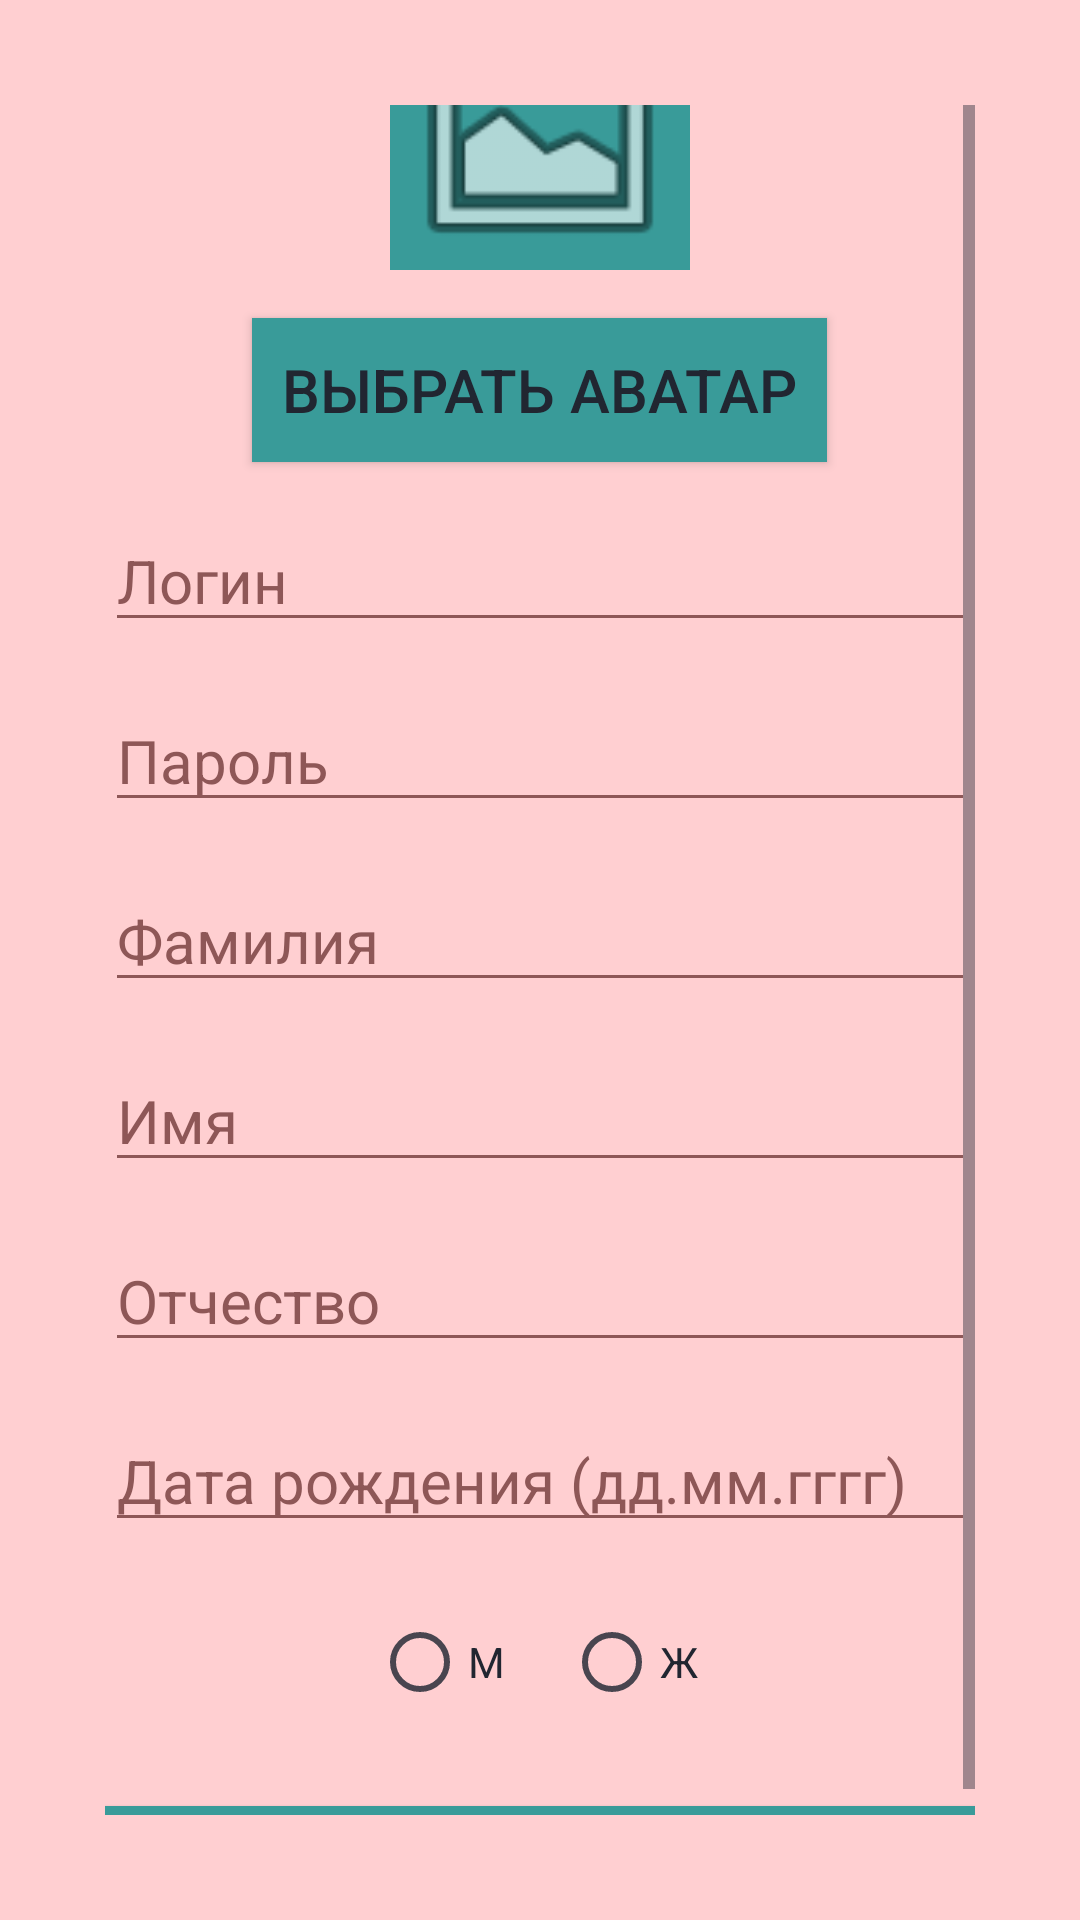

Icon bounding boxes for this 1080px×1920px phone screenshot, format (x1, y1, x2, y2):
gallery: (390, 105, 690, 270)
